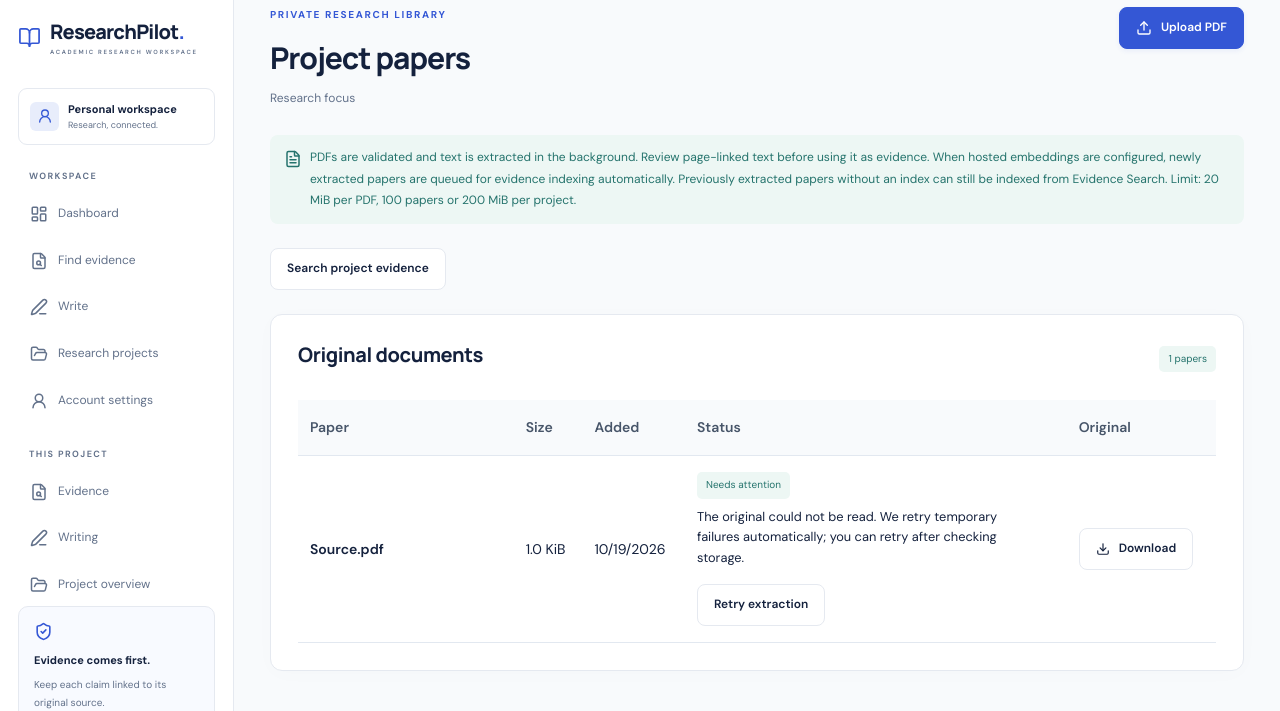
Scenario: submits an authorized retry and shows queued state after success
(page scrolled)
Click the button "Retry extraction".
click(761, 605)  # box [697,584,825,626]
(page scrolled)
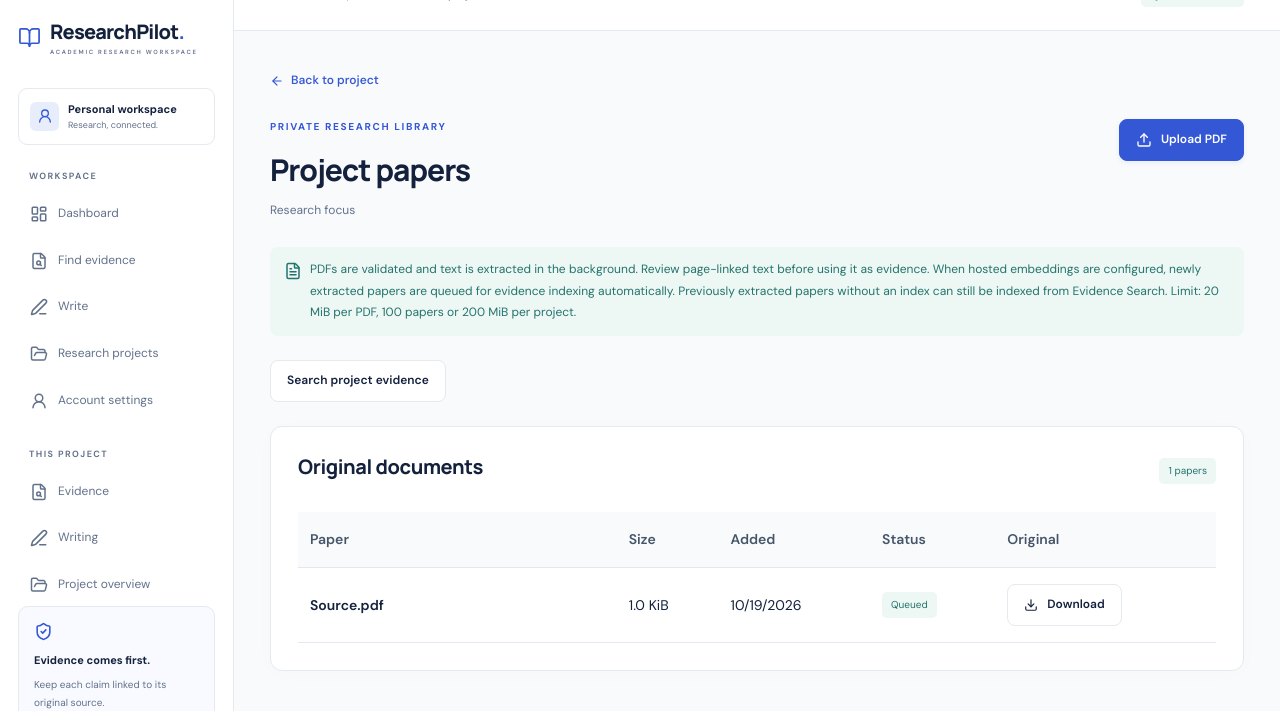
Result: the text "Queued" is shown at [882,592,937,618]
